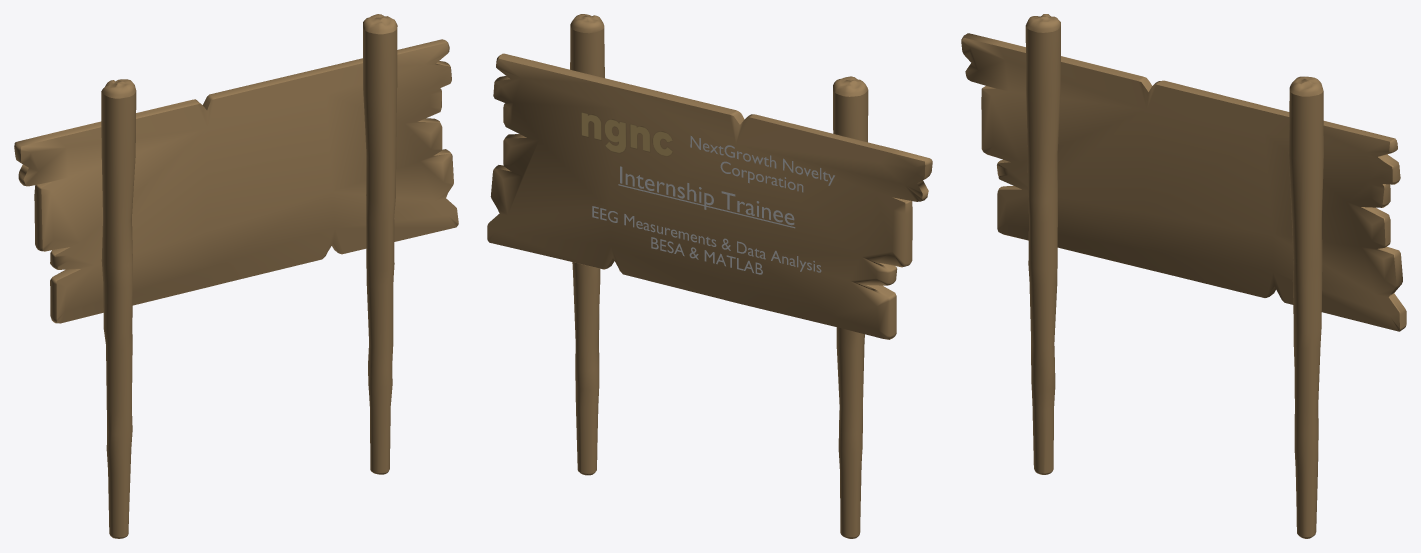
File: work3.gltf
The picture shows the model from 3 angles, left to right: view 1: azimuth 30°, elevation 25°; view 2: azimuth 150°, elevation 25°; view 3: azimuth 330°, elevation 25°; orthographic projection.
Parts seen in each view (by area): view 1: Wood_01_07_low4; view 2: Wood_01_07_low4, Text.001, ngnc-logo-gold, Text.002, Text; view 3: Wood_01_07_low4.
Boxes of the visible parts, bbox=[...] form: Wood_01_07_low4: bbox=[14, 14, 458, 538]; Wood_01_07_low4: bbox=[487, 14, 932, 538]; Text.001: bbox=[592, 206, 821, 274]; ngnc-logo-gold: bbox=[581, 112, 672, 156]; Text.002: bbox=[618, 166, 795, 228]; Text: bbox=[690, 136, 834, 192]; Wood_01_07_low4: bbox=[961, 14, 1406, 538].
Size of the model in its own units: 2.67 by 2.64 by 0.2699.
4 materials, 1 textured.
